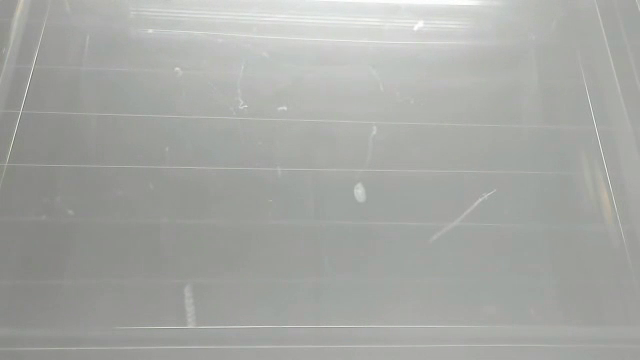alpha: (179, 279, 205, 332), (350, 178, 370, 208), (408, 16, 427, 34)
